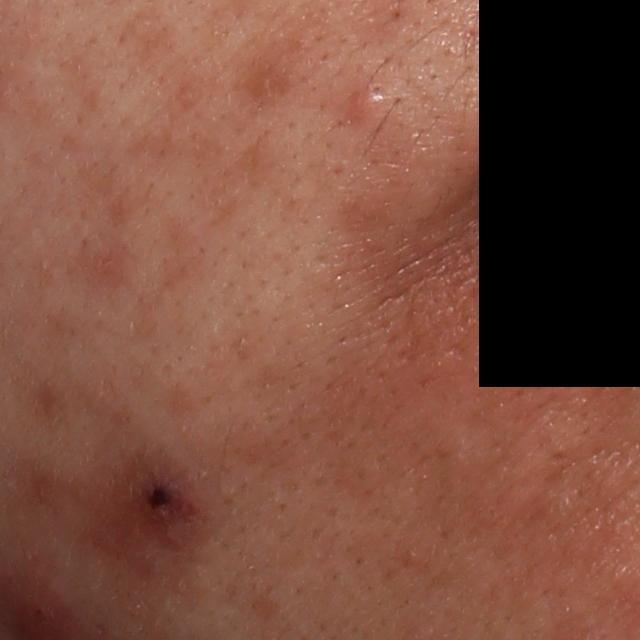papule: (132, 471, 192, 531), (339, 85, 384, 129)
